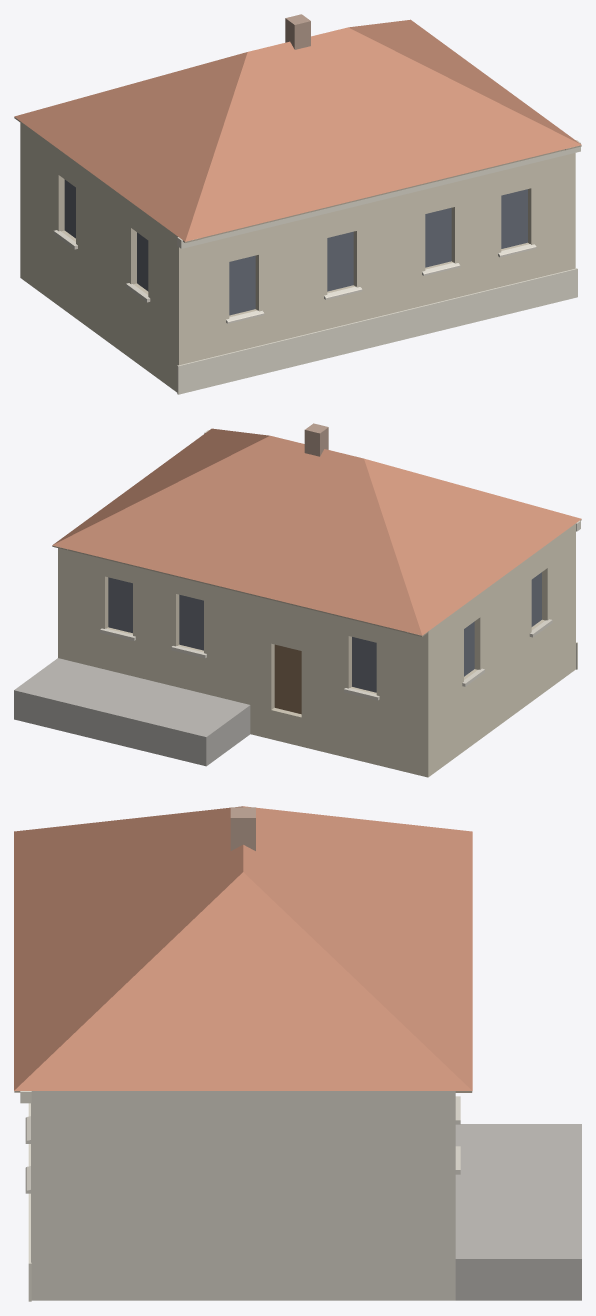
The picture shows the model from 3 angles, top to bottom: view 1: azimuth 30°, elevation 25°; view 2: azimuth 150°, elevation 25°; view 3: azimuth 270°, elevation 25°; orthographic projection. The views are drawn at different scales.
Parts seen in each view (by area): view 1: CP_878_Masonry, CP_878_Roof, CP_878_Cornice_plinth_0, CP_878_Cornice_main_0, CP_878_Chimney_0, CP_878_Roof_EaveClosure_0; view 2: CP_878_Masonry, CP_878_Roof, CP_878_Ramp_E, CP_878_Chimney_0, CP_878_Roof_EaveClosure_2; view 3: CP_878_Roof, CP_878_Masonry, CP_878_Ramp_E, CP_878_Chimney_0.
Part boxes in pixels (x1,y1,x2,y2): CP_878_Masonry: (20, 121, 575, 392); CP_878_Roof: (14, 19, 581, 241); CP_878_Cornice_plinth_0: (177, 268, 577, 394); CP_878_Cornice_main_0: (177, 140, 580, 248); CP_878_Chimney_0: (285, 14, 310, 49); CP_878_Roof_EaveClosure_0: (183, 149, 564, 242); CP_878_Masonry: (58, 523, 575, 777); CP_878_Roof: (52, 428, 581, 635); CP_878_Ramp_E: (14, 658, 250, 766); CP_878_Chimney_0: (304, 423, 328, 456); CP_878_Roof_EaveClosure_2: (68, 549, 427, 636); CP_878_Roof: (14, 806, 472, 1090); CP_878_Masonry: (31, 1091, 455, 1300); CP_878_Ramp_E: (455, 1124, 581, 1300); CP_878_Chimney_0: (230, 807, 255, 850).
Size of the model in its own units: 14.75 by 9.4 by 13.49.
